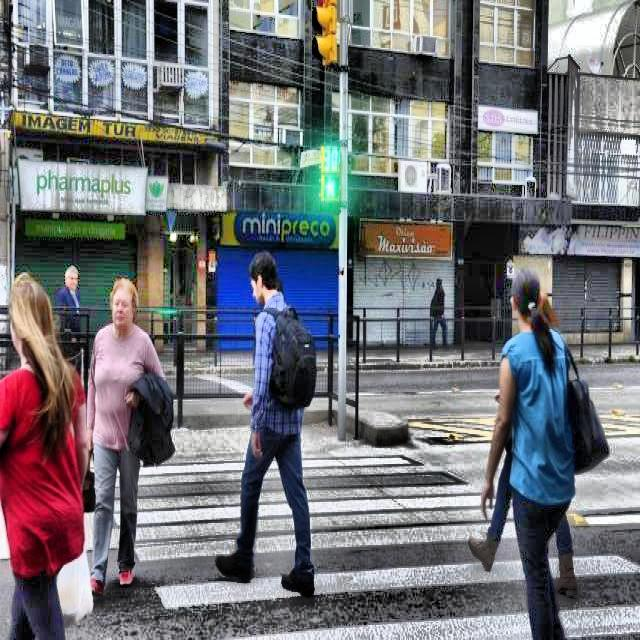faixa de pedestre: (108, 432, 639, 638)
